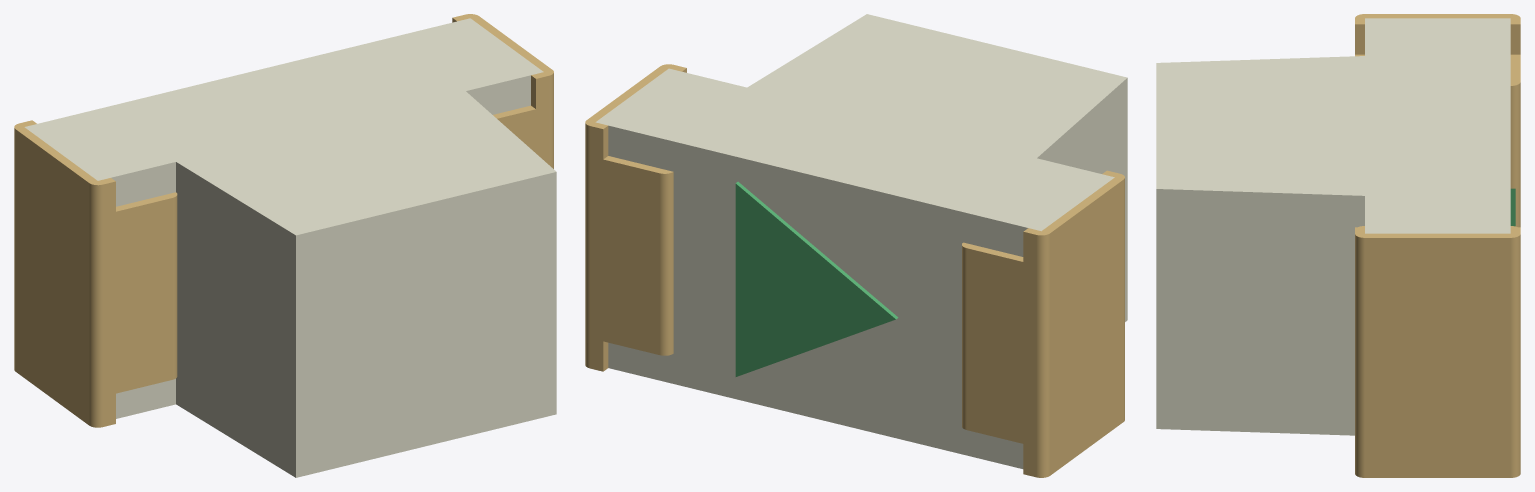
Rendered from led.glb.
The picture shows the model from 3 angles, left to right: view 1: azimuth 30°, elevation 25°; view 2: azimuth 150°, elevation 25°; view 3: azimuth 270°, elevation 25°; orthographic projection.
Visible parts, largest first — view 1: LED_0603_1608Metric; view 2: LED_0603_1608Metric; view 3: LED_0603_1608Metric.
Part boxes in pixels (x1,y1,x2,y2): LED_0603_1608Metric: (14,14,556,477); LED_0603_1608Metric: (585,14,1127,477); LED_0603_1608Metric: (1156,14,1520,477).
Size of the model in its own units: 0.0016 by 0.0008 by 0.0011.
